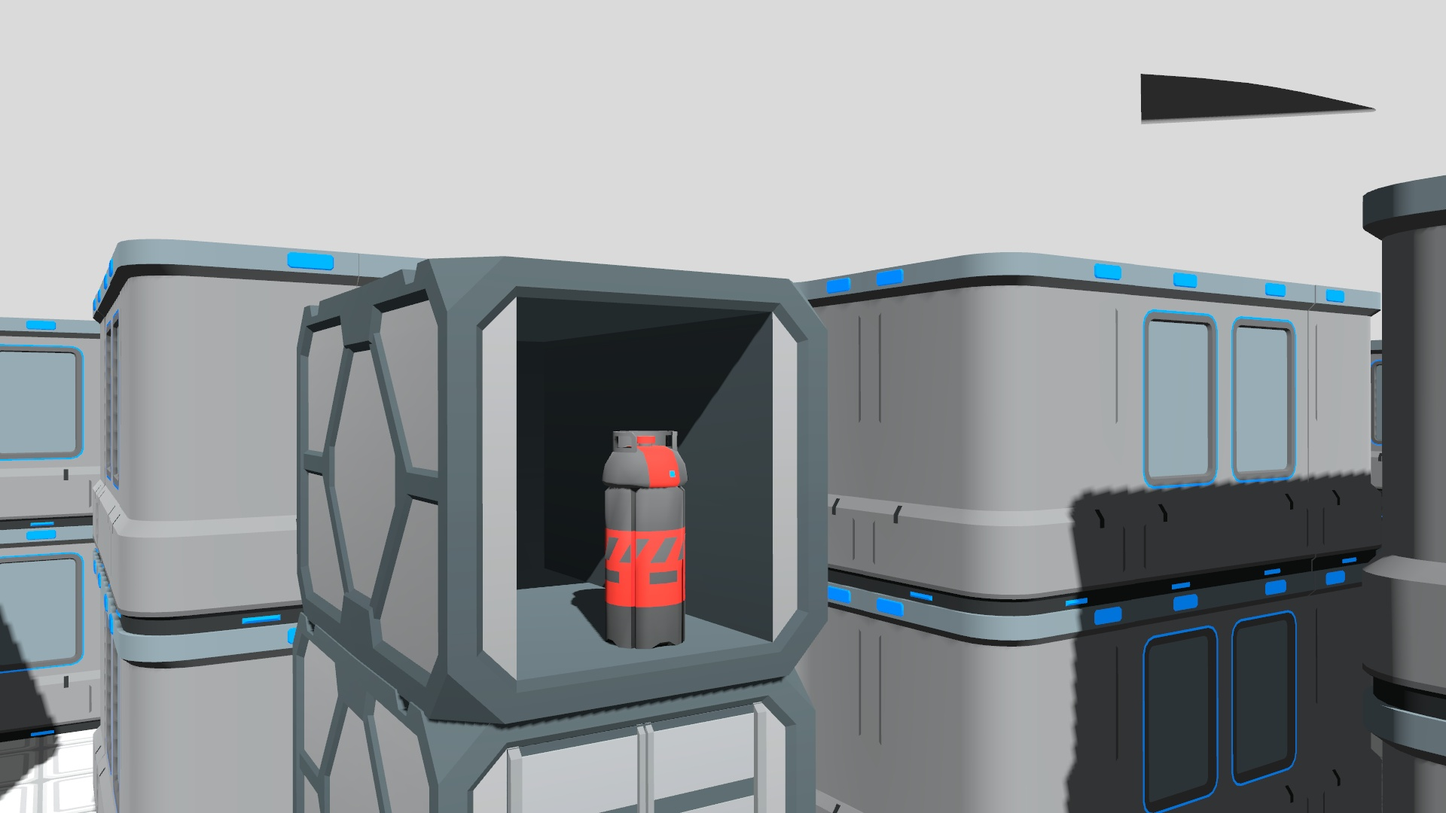red_barrel: (595, 423, 698, 656)
